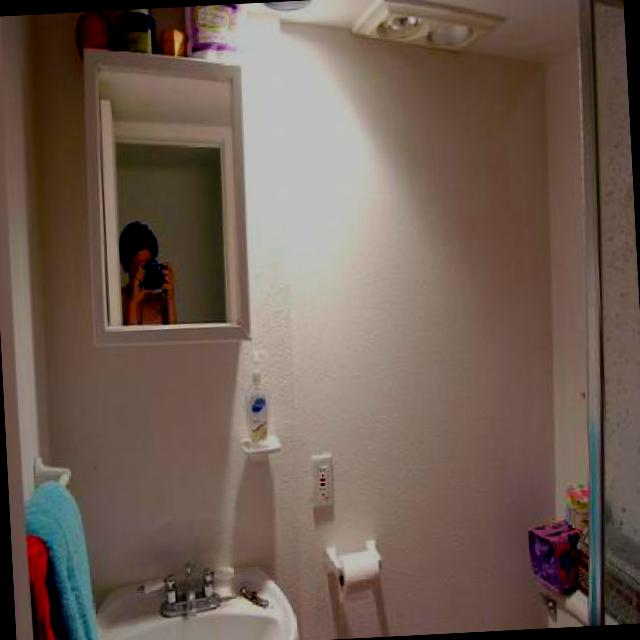Person: (115, 217, 174, 324)
